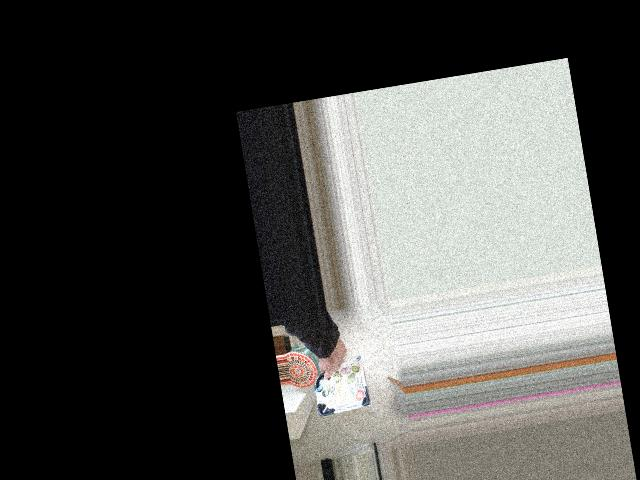cheese: (301, 338, 377, 415)
